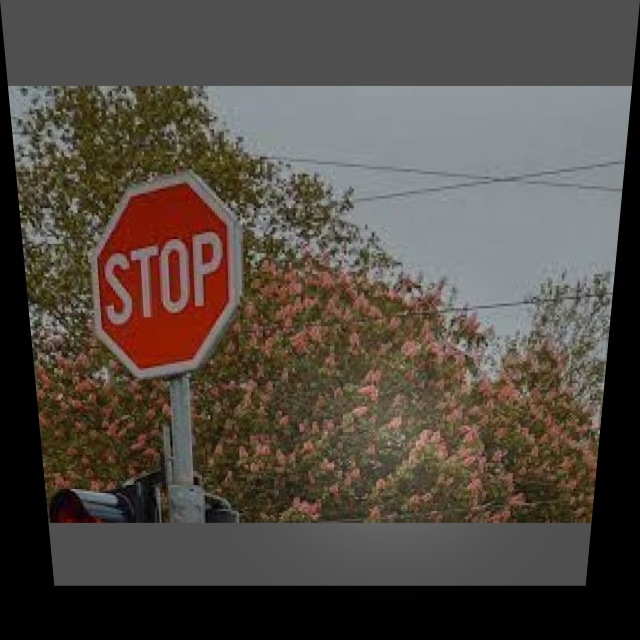Stop: (88, 176, 242, 375)
